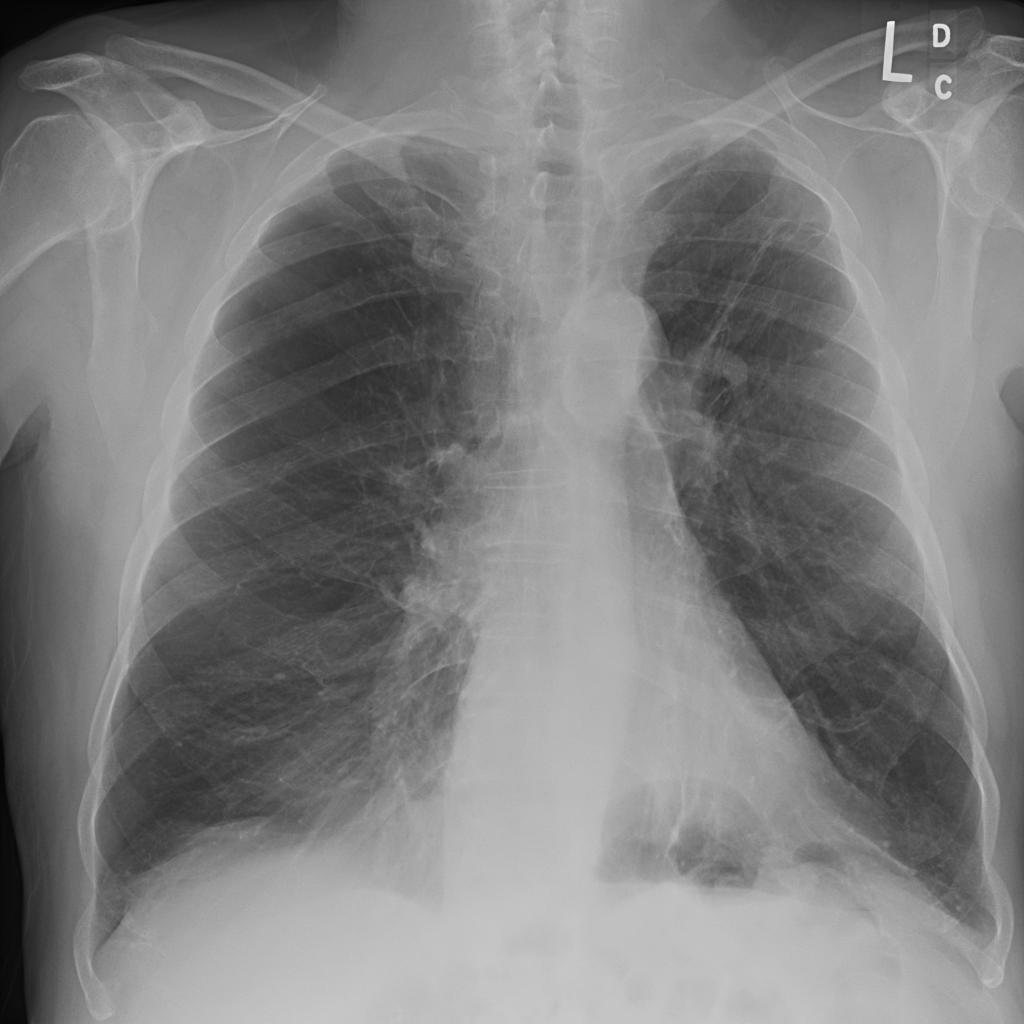Nodule: (190, 233, 221, 262), (169, 209, 196, 231)
